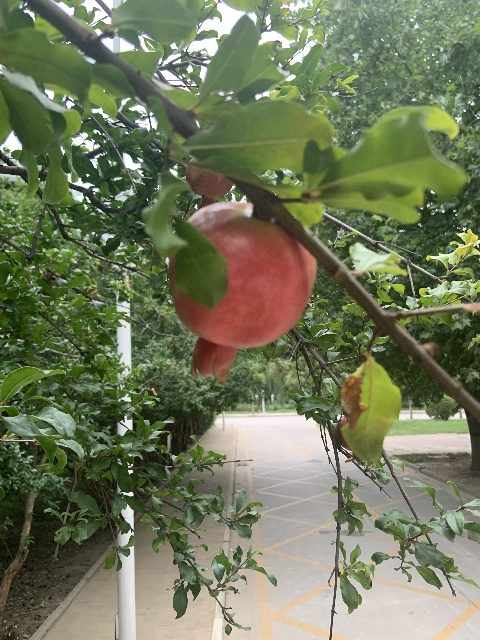ripe: (168, 201, 316, 382)
